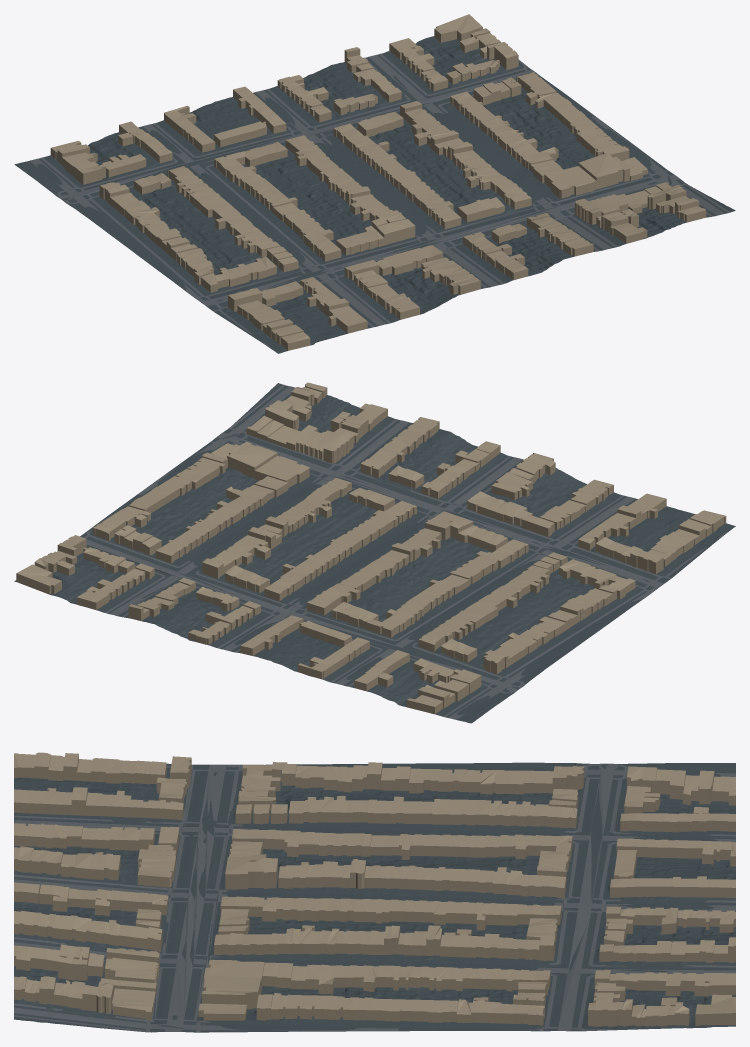
Rendered from epsg26910-1418-10881.lod0.glb.
3 views of the same model, one above another, from view 1: azimuth 30°, elevation 25°; view 2: azimuth 150°, elevation 25°; view 3: azimuth 270°, elevation 25° (orthographic). The views are drawn at different scales.
Visible parts, largest first — view 1: epsg26910-1418-10881-lod0; view 2: epsg26910-1418-10881-lod0; view 3: epsg26910-1418-10881-lod0.
Part boxes in pixels (<box>): epsg26910-1418-10881-lod0: <box>14,14,735,353</box>; epsg26910-1418-10881-lod0: <box>14,382,735,723</box>; epsg26910-1418-10881-lod0: <box>14,752,735,1032</box>.
Size of the model in its own units: 384 by 37.55 by 384.
